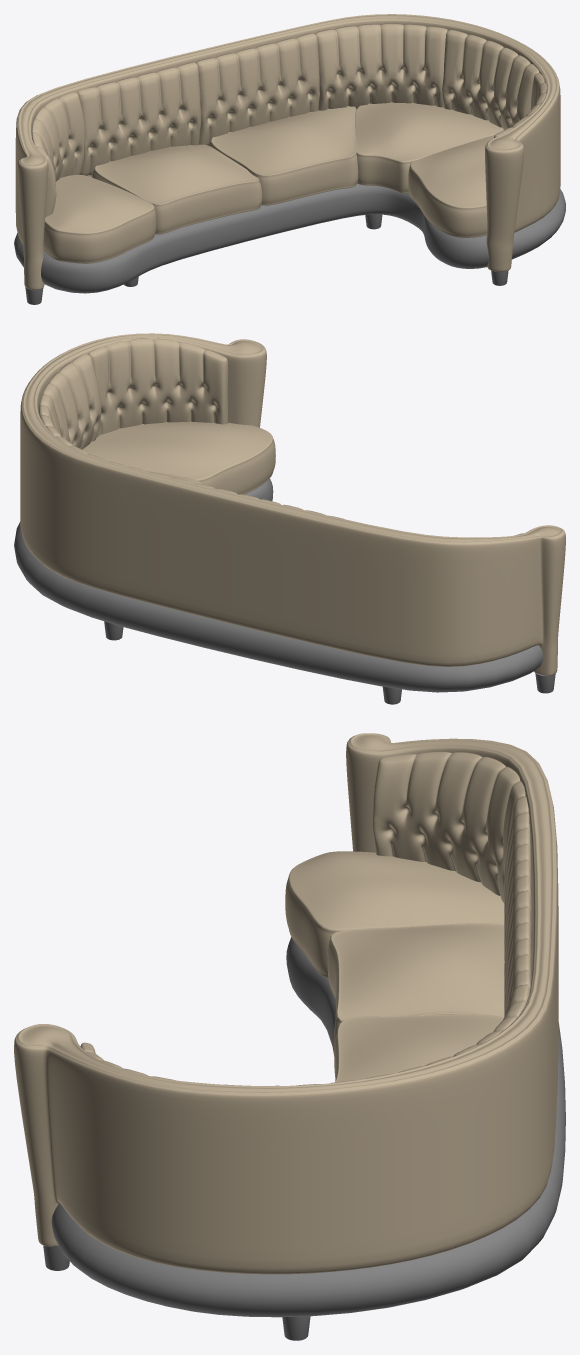
Rendered from sofa.FBX.
3 views of the same model, one above another, from view 1: azimuth 30°, elevation 25°; view 2: azimuth 150°, elevation 25°; view 3: azimuth 270°, elevation 25° (orthographic). The views are drawn at different scales.
Visible parts, largest first — view 1: Line01, Line03, Box04, Line05, Box01, Box02, Line06, Line04, Line07, Box03, Line02, Box06 (+2 smaller); view 2: Line01, Line03, Box05, Line02, Box03, Cone02; view 3: Line01, Line03, Box06, Line06, Line07, Line05, Box02, Box01, Cone02, Box04.
Boxes of the visible parts, x1,y1,x2,y2 form: Line01: (15,14,560,290); Line03: (14,183,565,293); Box04: (315,23,447,110); Line05: (209,106,358,205); Box01: (196,33,319,145); Box02: (77,62,201,175); Line06: (92,144,262,234); Line04: (355,102,503,193); Line07: (43,175,156,263); Box03: (442,29,539,129); Line02: (408,135,494,237); Box06: (32,92,84,216); Line01: (20,333,565,675); Line03: (14,478,542,692); Box05: (88,338,228,437); Line02: (82,421,275,494); Box03: (38,353,101,449); Cone02: (104,621,555,704); Line01: (14,733,558,1274); Line03: (51,937,565,1317); Box06: (372,751,525,903); Line06: (327,923,504,1056); Line07: (285,851,504,977); Line05: (334,1014,503,1082); Box02: (504,796,532,960); Box01: (504,890,531,1016); Cone02: (43,1245,310,1340); Box04: (426,984,529,1065).
Size of the model in its own units: 3248 by 994 by 1935.
